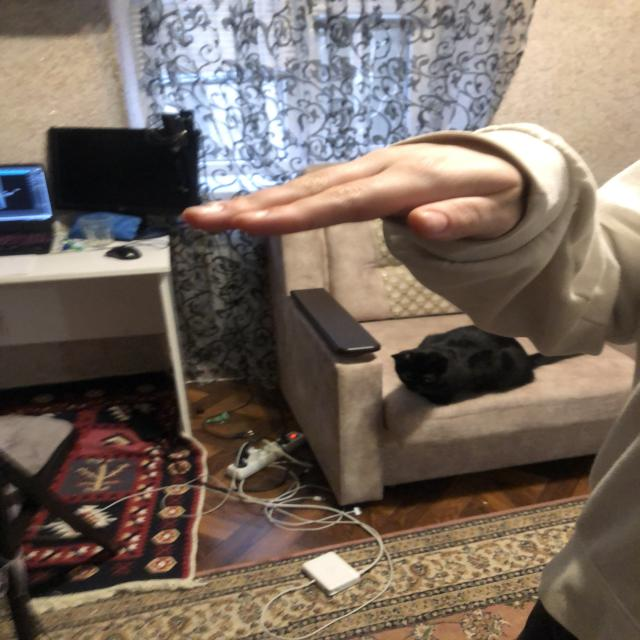paper: (182, 142, 517, 242)
